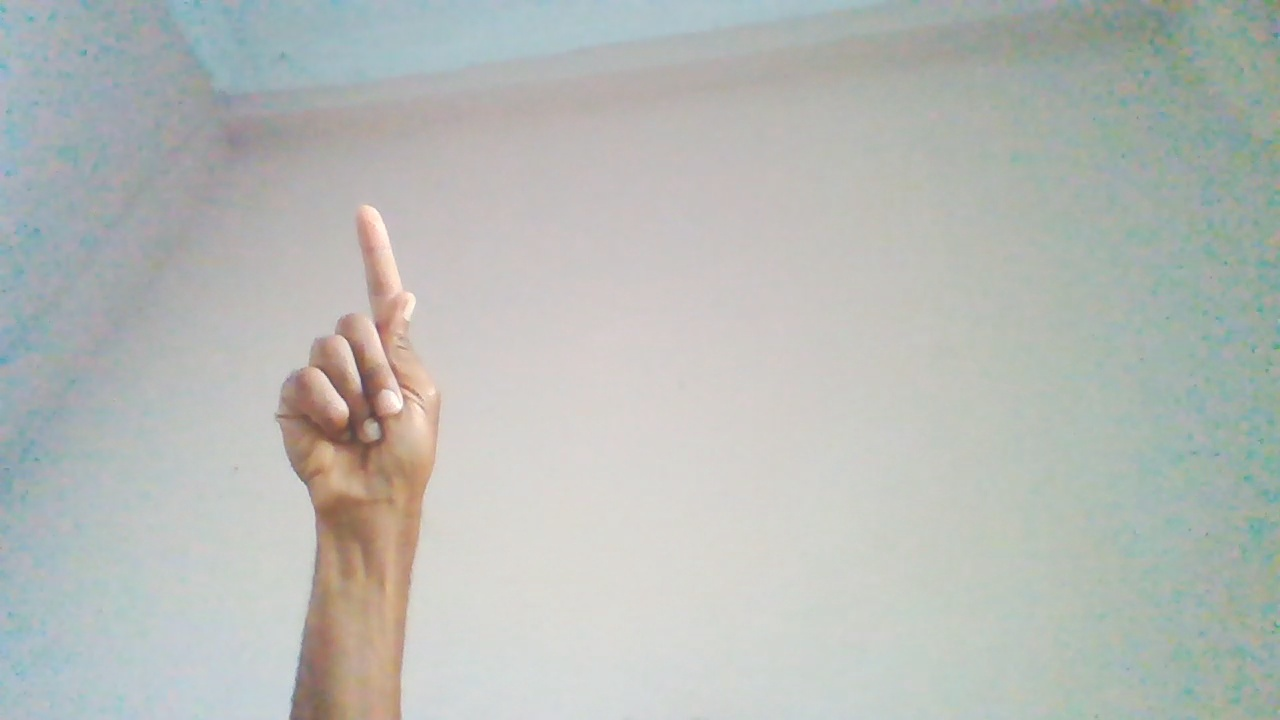ne: (276, 205, 445, 597)
